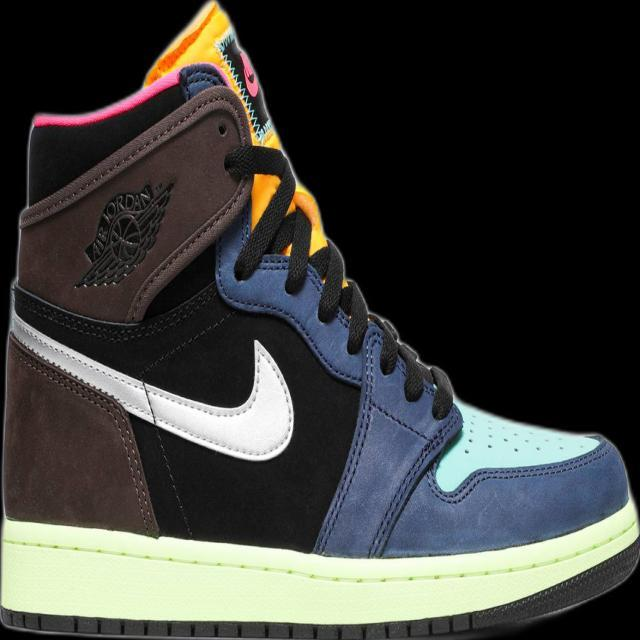J1_InsoleChar: (1, 6, 638, 637)
J1_MateComp: (141, 0, 345, 322)
J1_ShoeLogo: (72, 176, 176, 289)
J1_StitchPattern: (145, 3, 452, 418), (1, 504, 637, 635), (7, 313, 296, 461), (7, 317, 162, 538), (210, 29, 312, 286), (368, 309, 456, 420), (211, 29, 273, 144)
